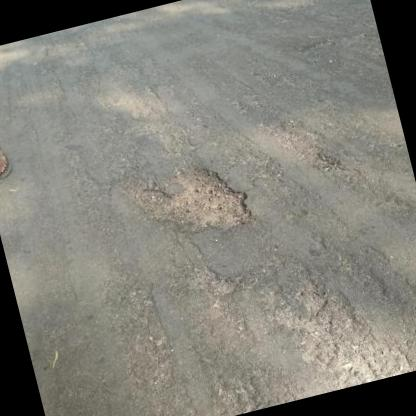pothole: (123, 151, 259, 254)
